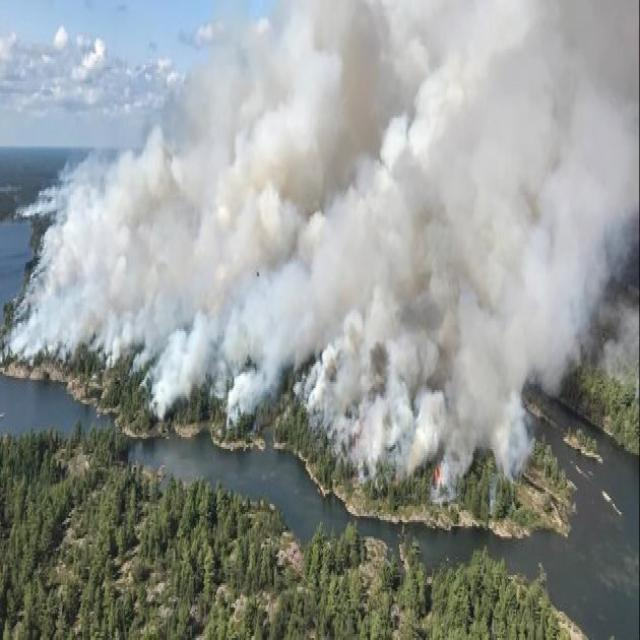Smoke: (290, 3, 526, 480), (156, 32, 290, 424), (528, 1, 639, 375), (10, 144, 155, 380)
